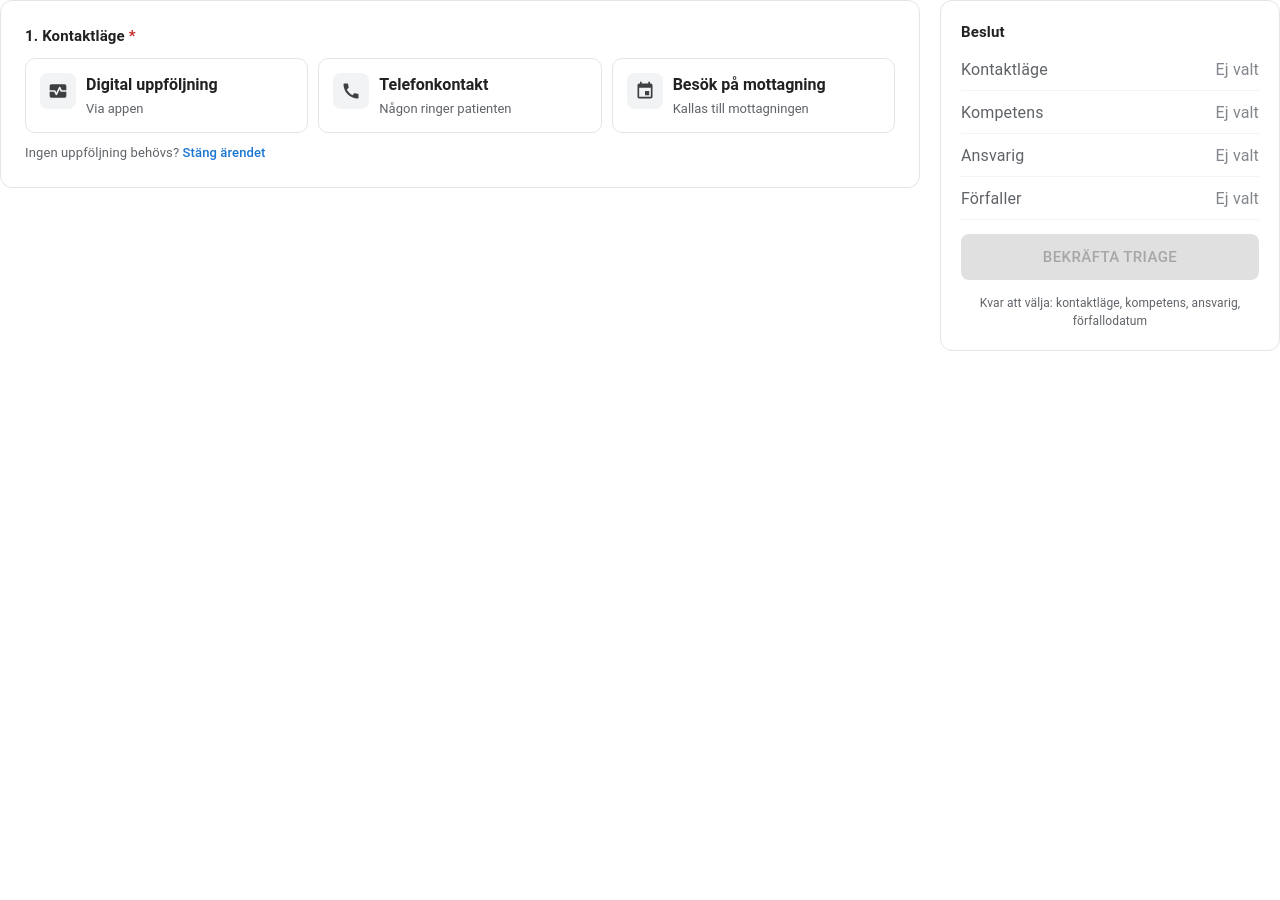
Test: TriageForm › disables PAL unless the competence is doctor
The image size is (1280, 900).
Click the radio button labelled "Telefonkontakt Någon ringer patienten".
click(460, 95)  # box [318,58,602,133]
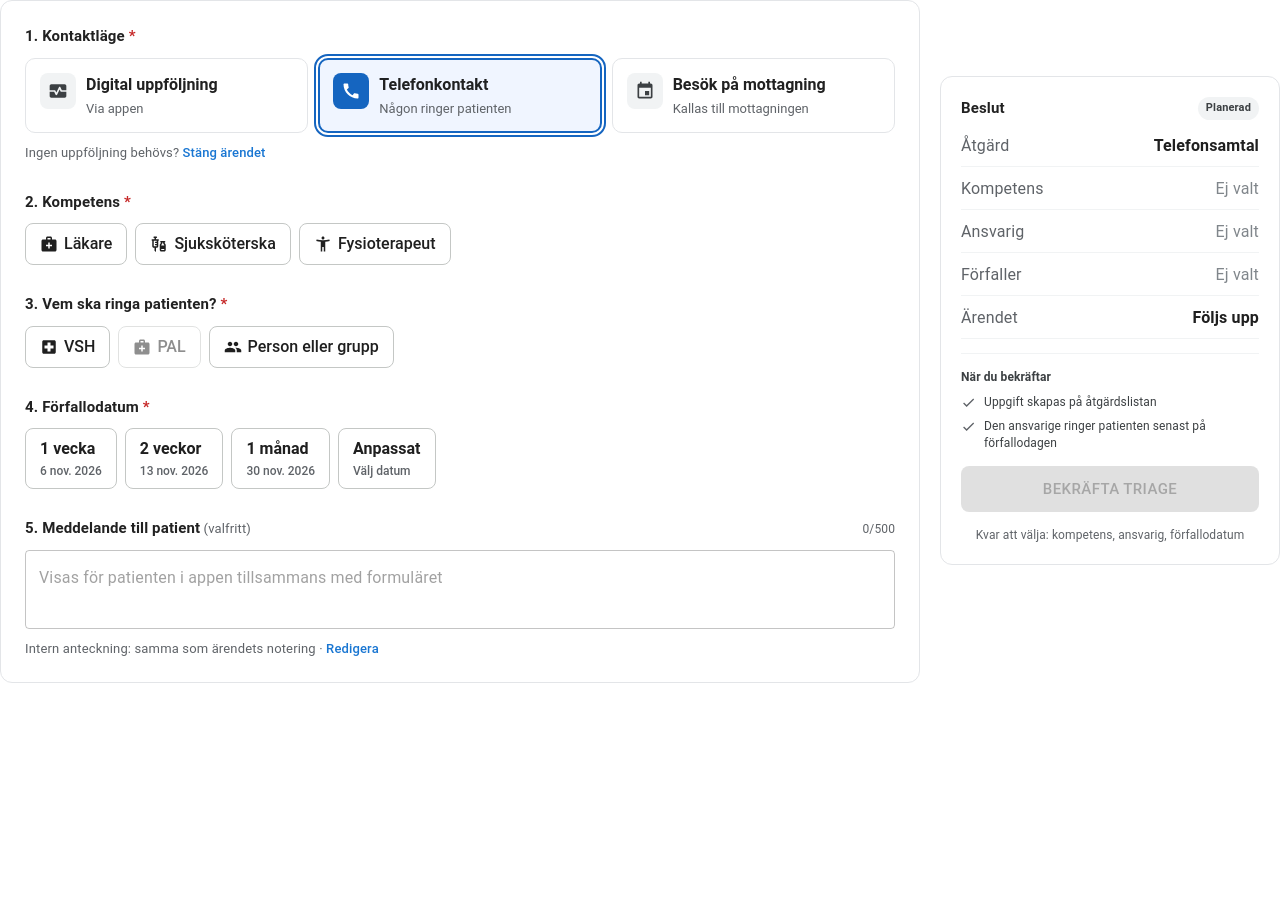
Click the radio button labelled "Sjuksköterska".
click(213, 244)  # box [135,223,291,265]
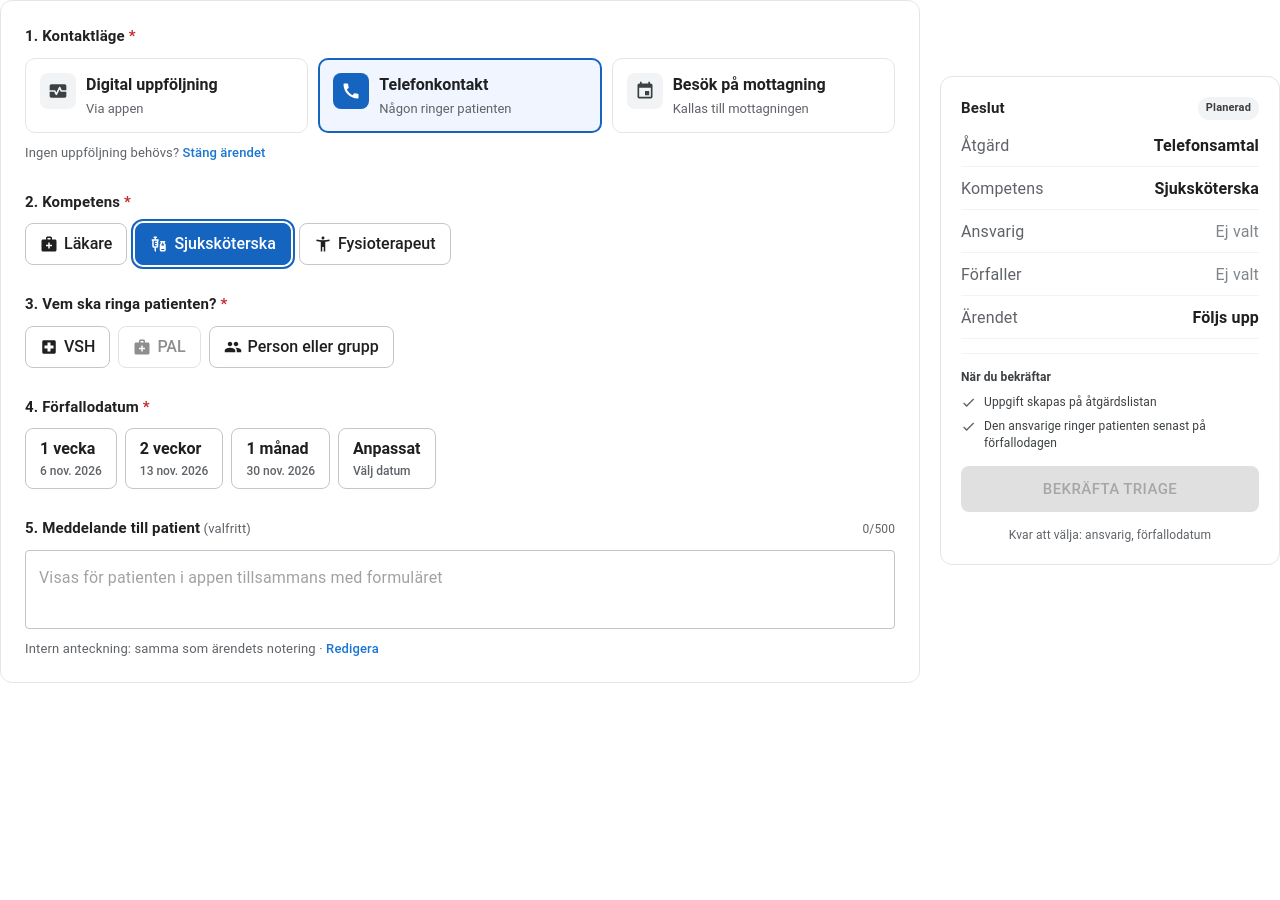
Check: the radio button labelled "PAL" is disabled, box [118,326,201,368]
Click the radio button labelled "Läkare".
click(76, 244)  # box [25,223,127,265]
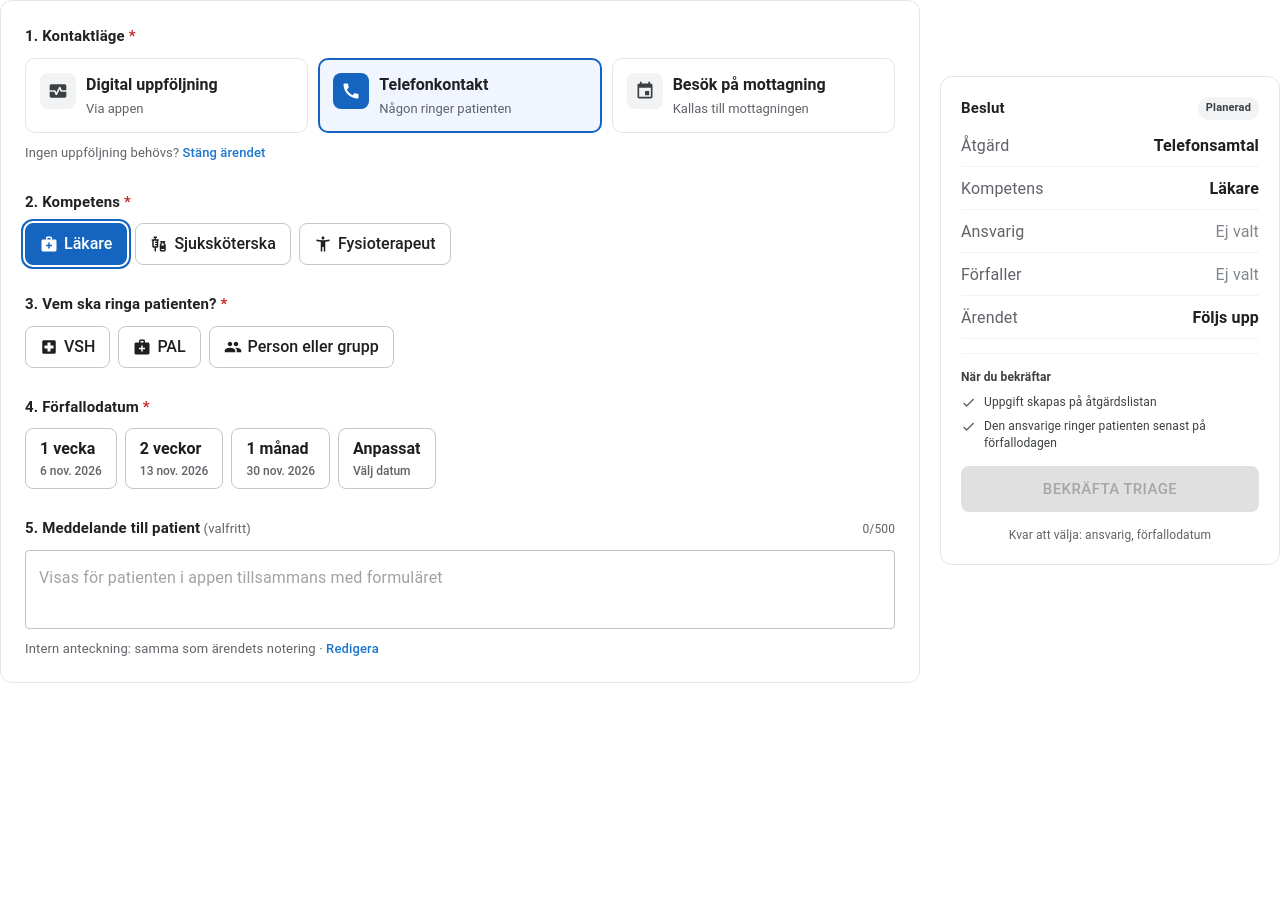
Check: the radio button labelled "PAL" is enabled, box [118,326,201,368]
